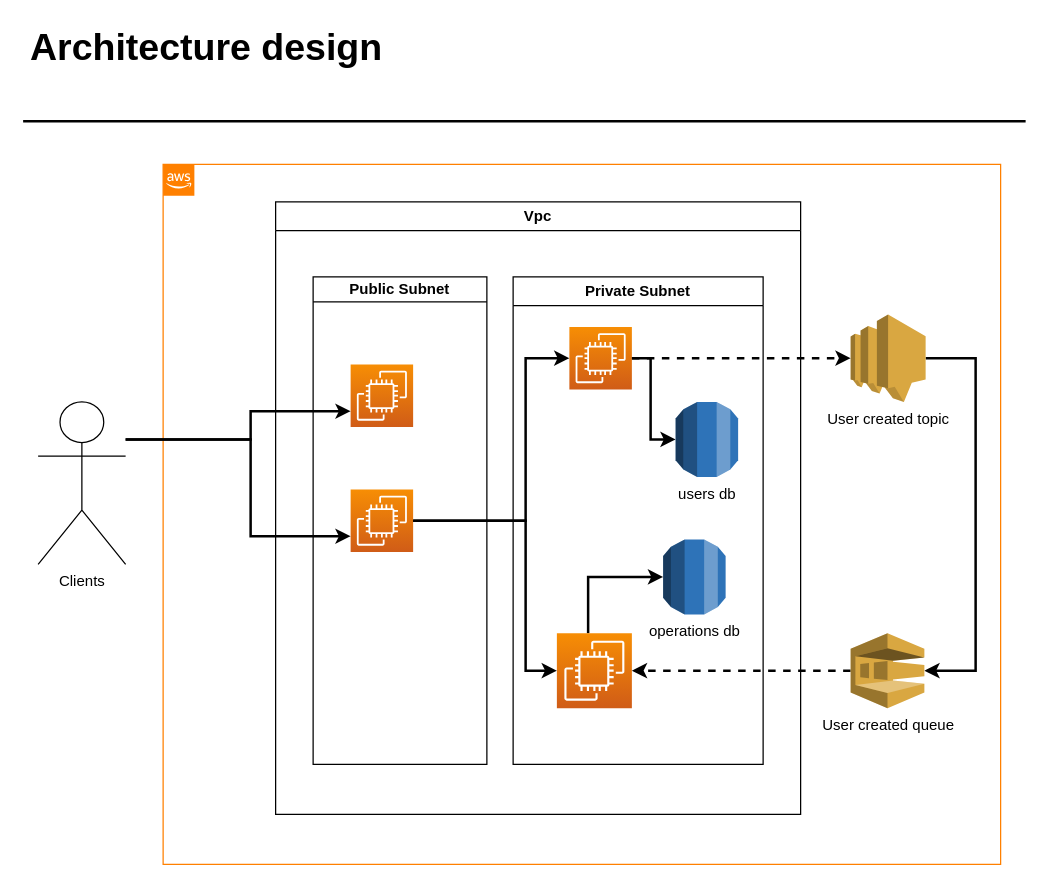
Image size: 1048x886. Some labels were removed from this diagram. The centre of each missing label's shape, as x and y in pixels:
"Operations service" goes at [594,670].
"Public Api" goes at [381,520].
"Users service" goes at [600,357].
"Web Client server" goes at [381,395].
